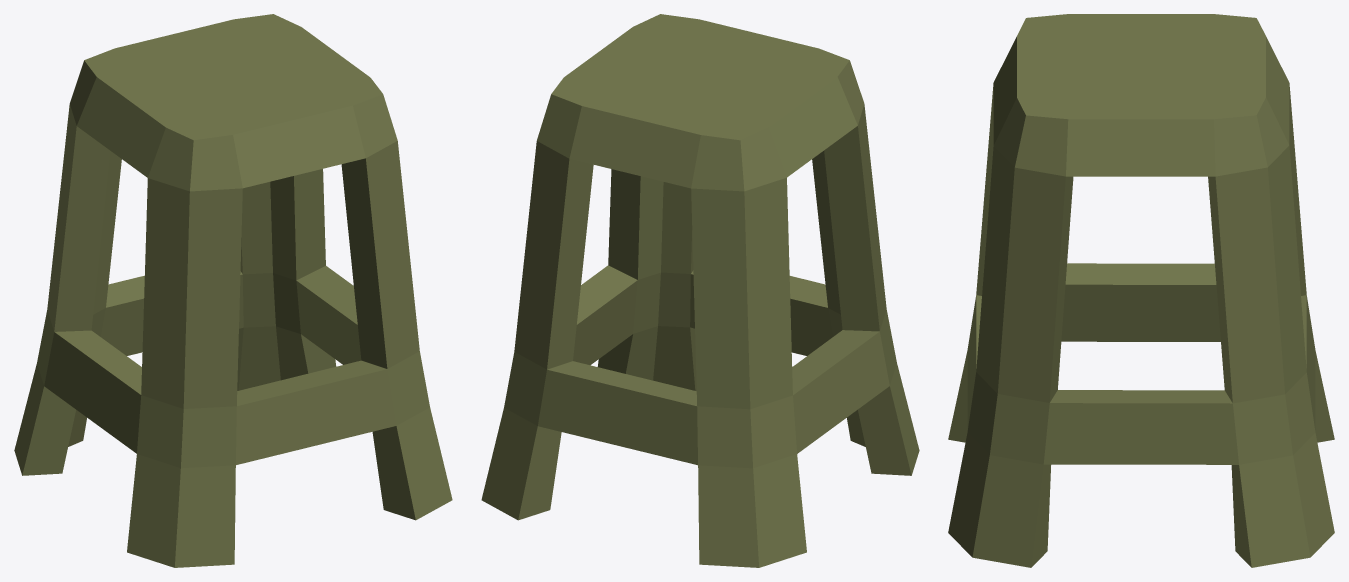
The model's file is SM_Prop_Stool_01.fbx.
The picture shows the model from 3 angles, left to right: view 1: azimuth 30°, elevation 25°; view 2: azimuth 150°, elevation 25°; view 3: azimuth 270°, elevation 25°; orthographic projection. The views are drawn at different scales.
Parts seen in each view (by area): view 1: SM_Prop_Stool_01; view 2: SM_Prop_Stool_01; view 3: SM_Prop_Stool_01.
Part boxes in pixels (bbox=[...]): SM_Prop_Stool_01: bbox=[14, 14, 452, 567]; SM_Prop_Stool_01: bbox=[481, 14, 919, 567]; SM_Prop_Stool_01: bbox=[948, 14, 1334, 567].
Bounding box in the file's own units: 55.27 × 66.17 × 55.27.
